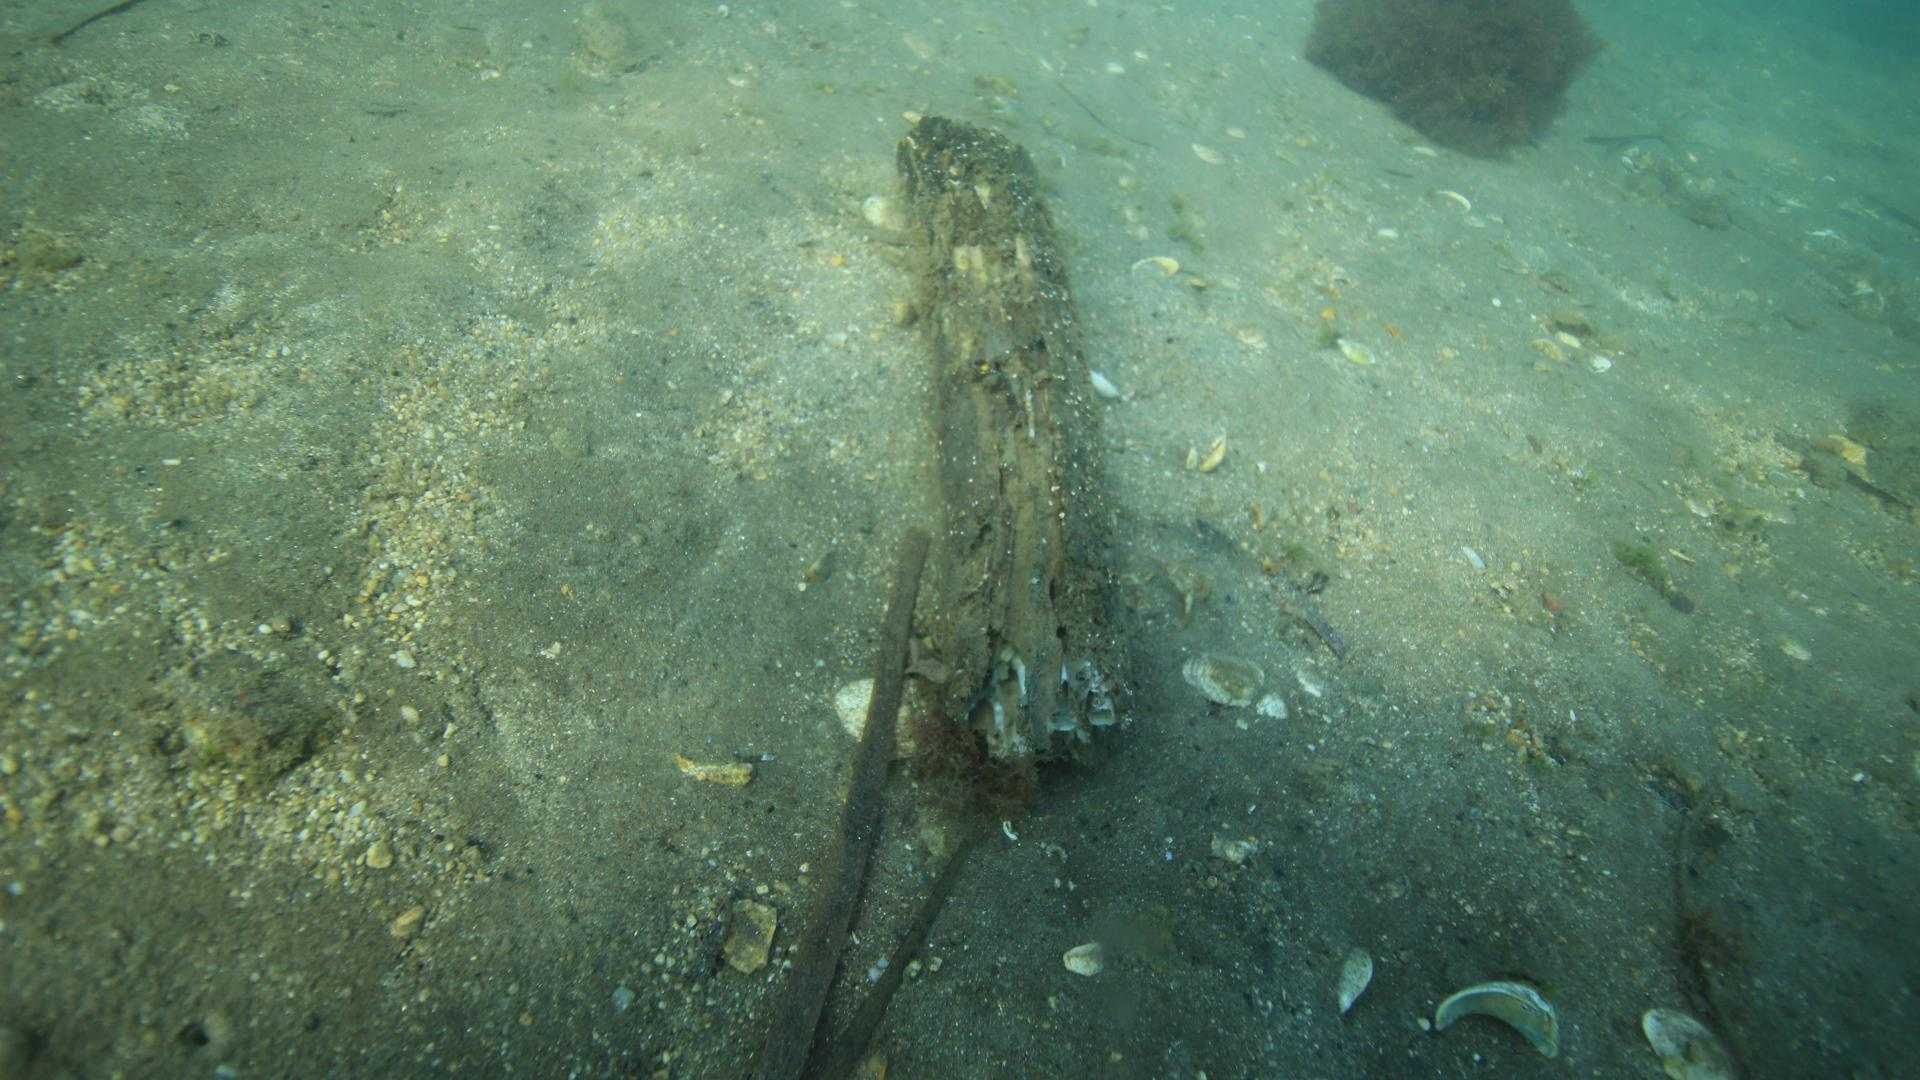wood: (895, 116, 1127, 770)
